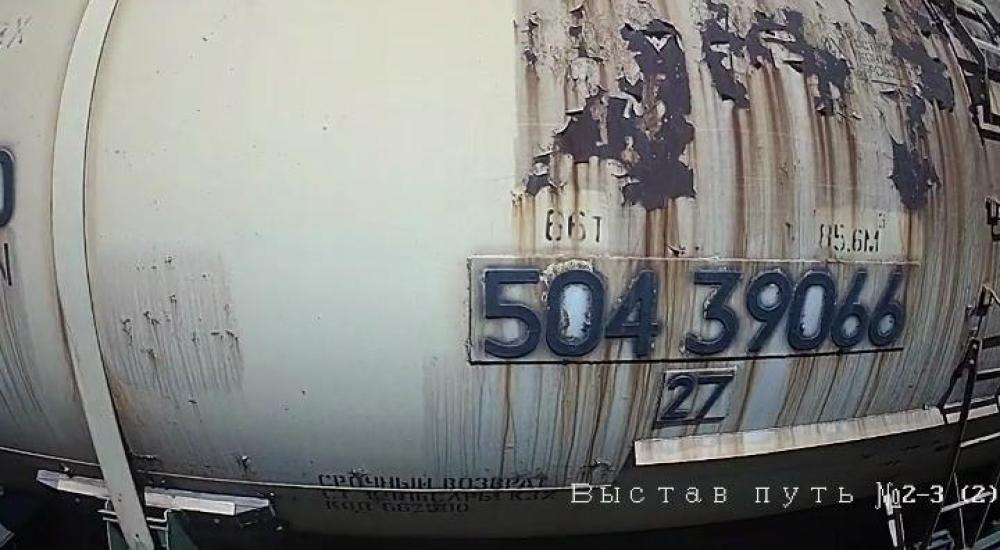Wagon-number: (469, 258, 913, 363)
